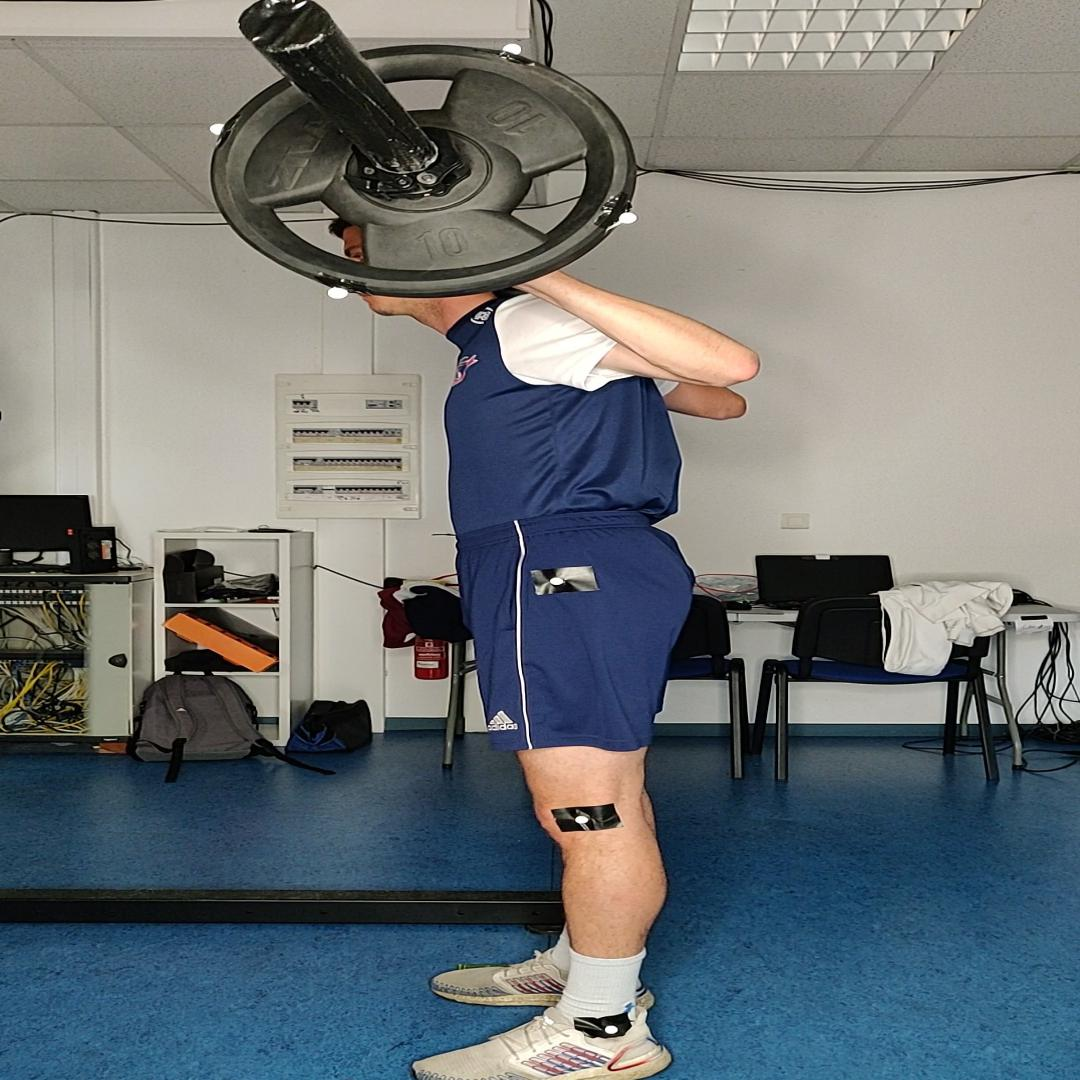Bar: (239, 0, 337, 53)
Barbell: (211, 43, 639, 297)
